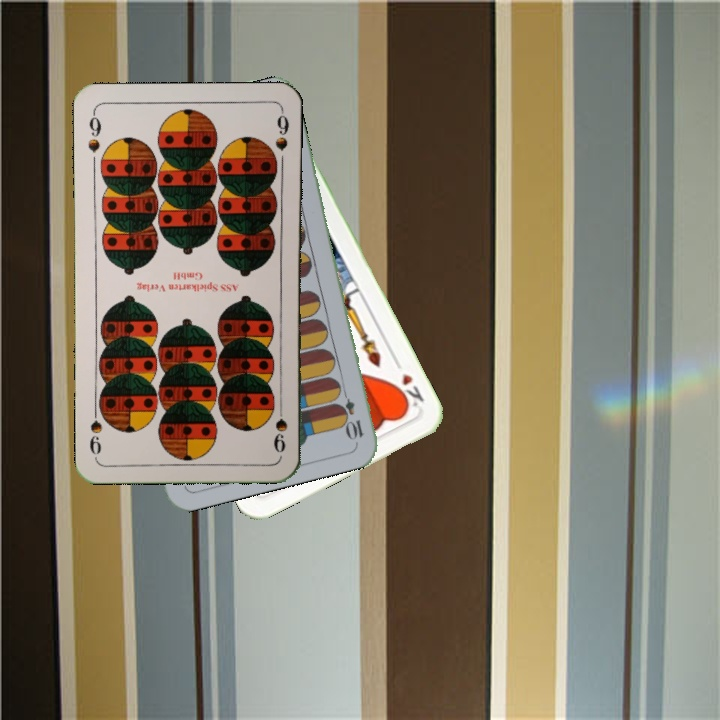E10: (336, 384, 366, 442)
HK: (390, 355, 427, 413)
S9: (270, 397, 290, 455), (83, 108, 104, 155)
